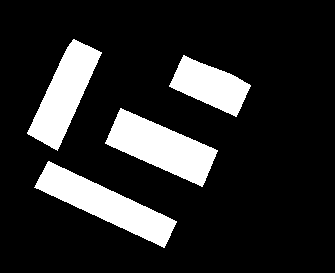parkingspot: (33, 160, 176, 247), (104, 107, 217, 186), (26, 38, 101, 150), (168, 54, 250, 116)
